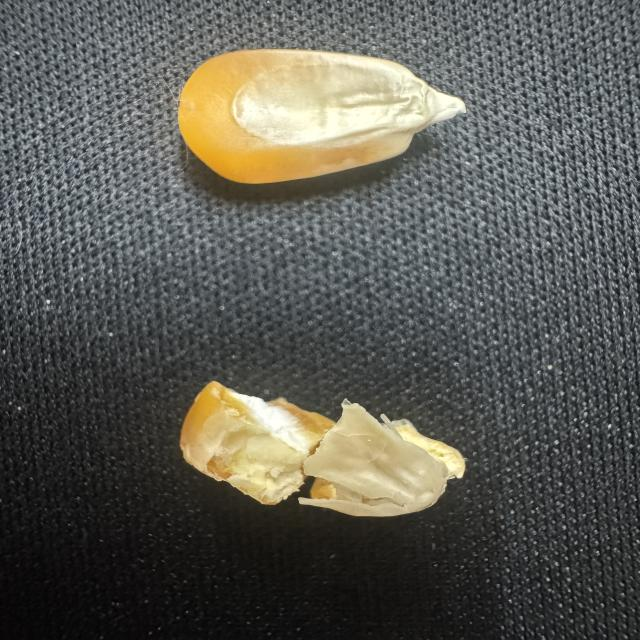Bad-Seed: (159, 372, 480, 528)
Good-Seed: (162, 40, 478, 193)
